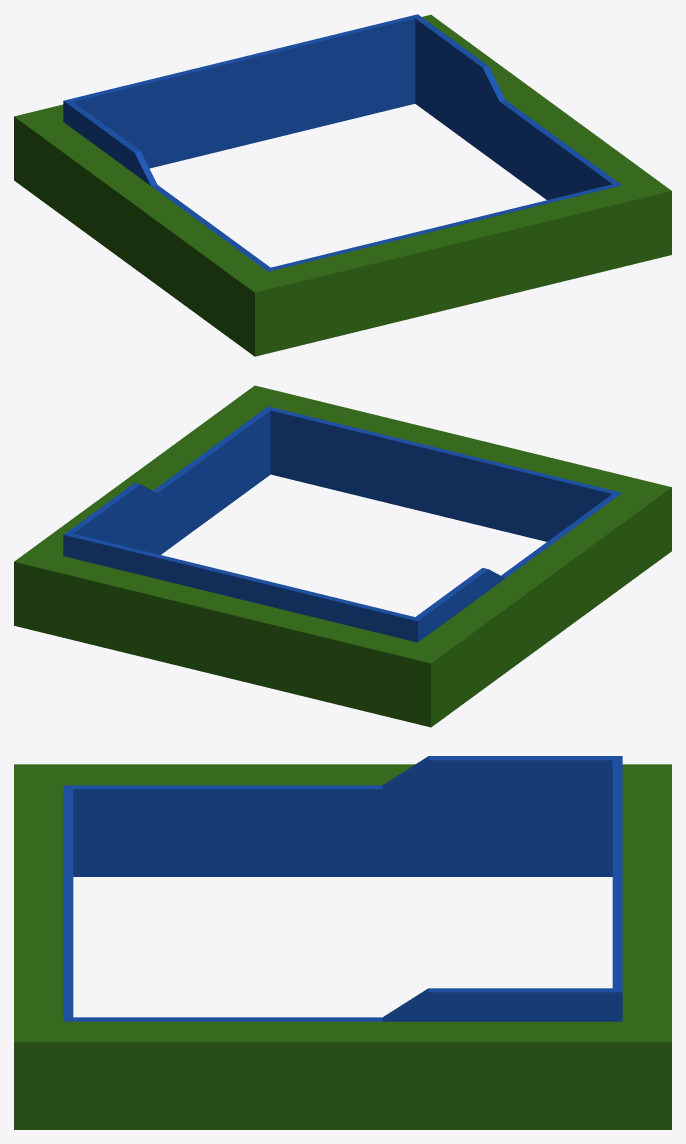
3 renders of one model, top to bottom at view 1: azimuth 30°, elevation 25°; view 2: azimuth 150°, elevation 25°; view 3: azimuth 270°, elevation 25°, orthographic. The views are drawn at different scales.
Visible parts, largest first — view 1: Bumpers, Base Backing; view 2: Bumpers, Base Backing; view 3: Bumpers, Base Backing.
Part boxes in pixels (bbox=[...]): Bumpers: bbox=[14, 14, 671, 356]; Base Backing: bbox=[63, 14, 621, 271]; Bumpers: bbox=[14, 385, 671, 727]; Base Backing: bbox=[63, 406, 621, 642]; Bumpers: bbox=[14, 764, 671, 1129]; Base Backing: bbox=[63, 756, 622, 1021].
Bounding box in the file's own units: 0.8446 × 0.1651 × 0.8446.
